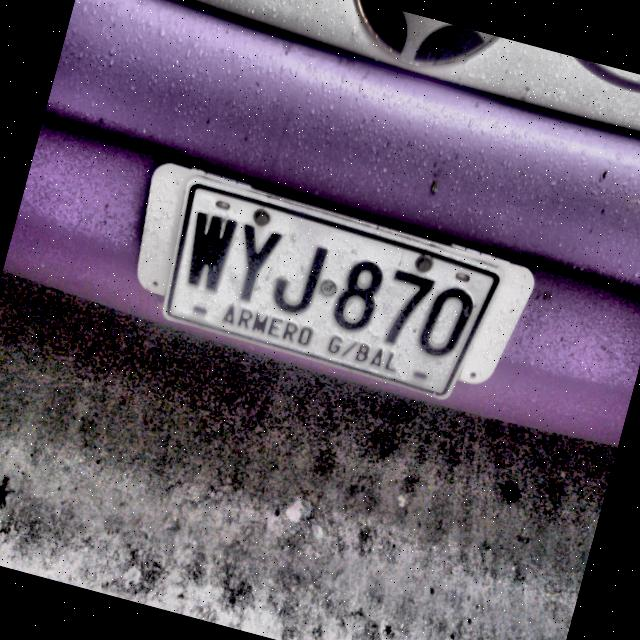0: (410, 279, 482, 363)
7: (376, 268, 438, 350)
8: (328, 254, 388, 338)
J: (268, 236, 330, 321)
W: (178, 209, 238, 296)
Y: (223, 222, 284, 308)
